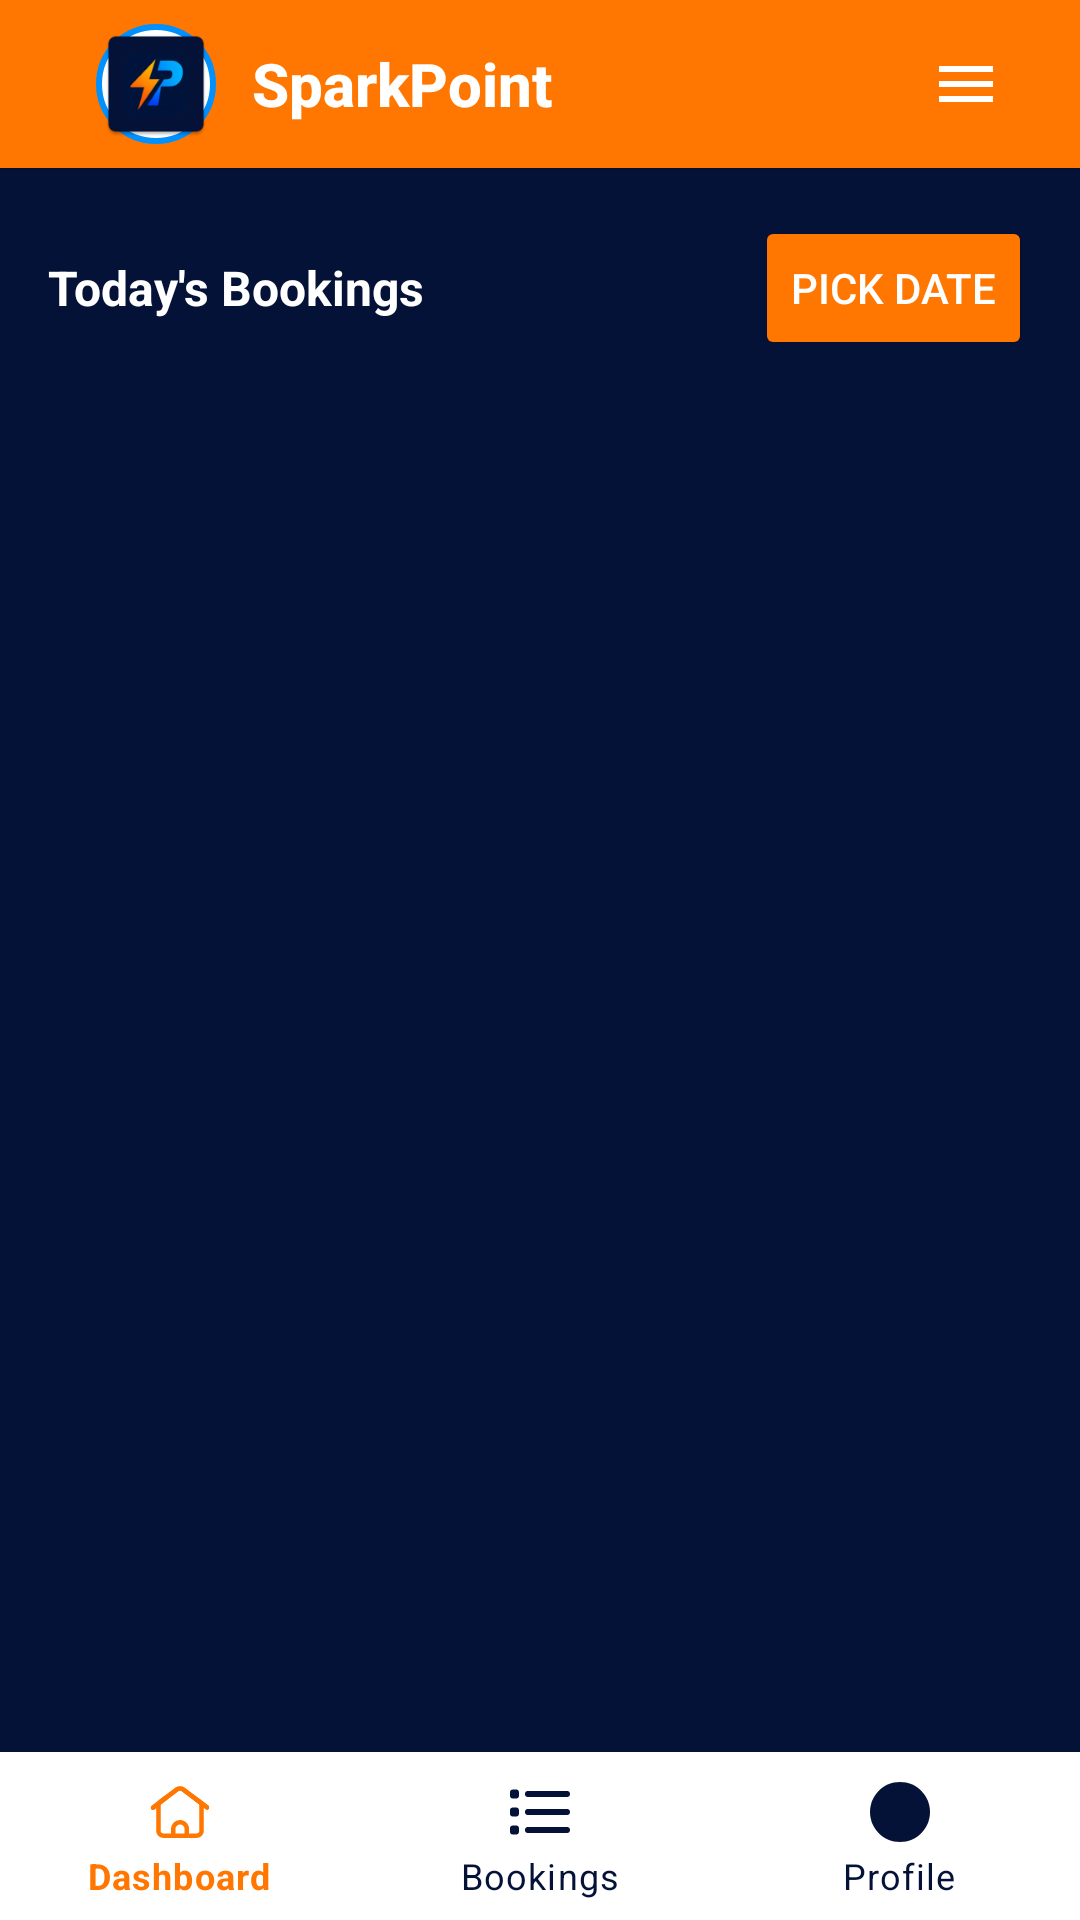

Icons on this 1080×1920 Android screen, each with the point to tap as [x,y]:
Menu: [966,84]
